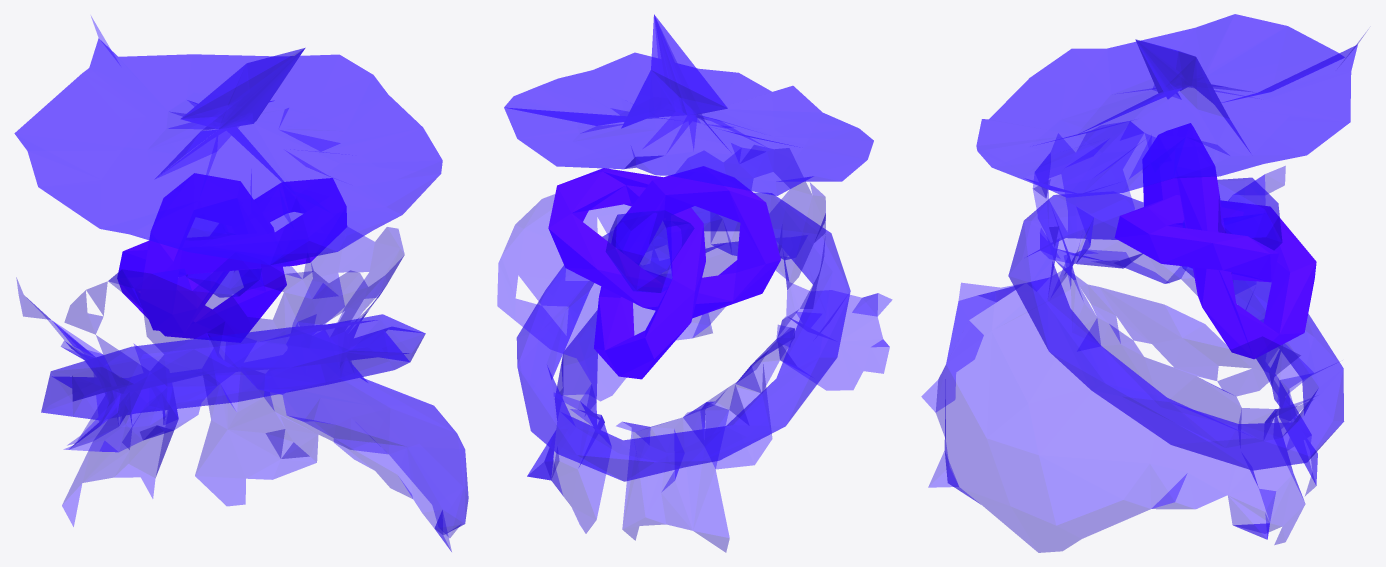
The picture shows the model from 3 angles, left to right: view 1: azimuth 30°, elevation 25°; view 2: azimuth 150°, elevation 25°; view 3: azimuth 270°, elevation 25°; orthographic projection. The views are drawn at different scales.
Parts seen in each view (by area): view 1: 2200cc; view 2: 2200cc; view 3: 2200cc.
Boxes of the visible parts, x1,y1,x2,y2 form: 2200cc: (14,16,468,551); 2200cc: (497,14,891,552); 2200cc: (921,14,1367,552).
Size of the model in its own units: 1.57 by 2.1 by 1.7.
